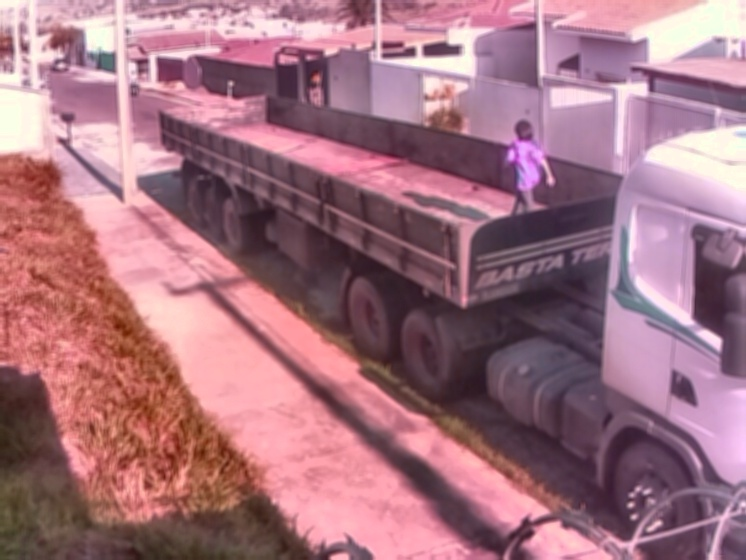person: (501, 117, 557, 220)
